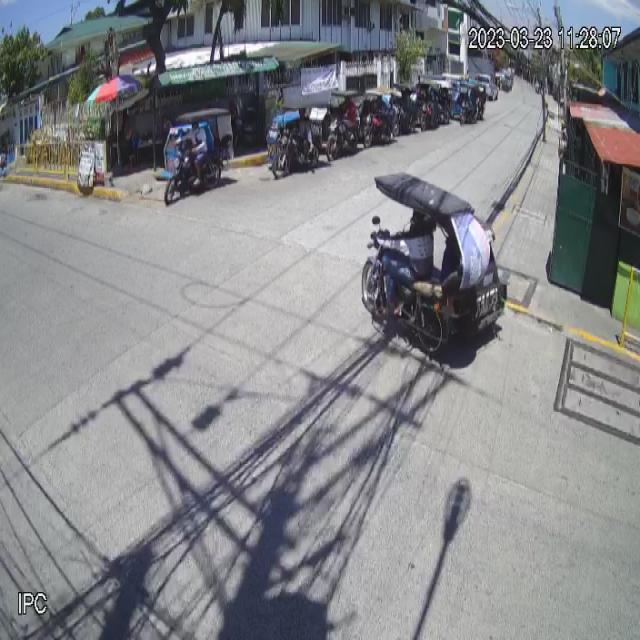Tricycle: (361, 171, 507, 359)
